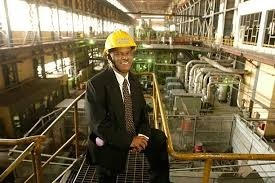helmet: (102, 30, 137, 52)
person with partial safety: (82, 30, 158, 172)
